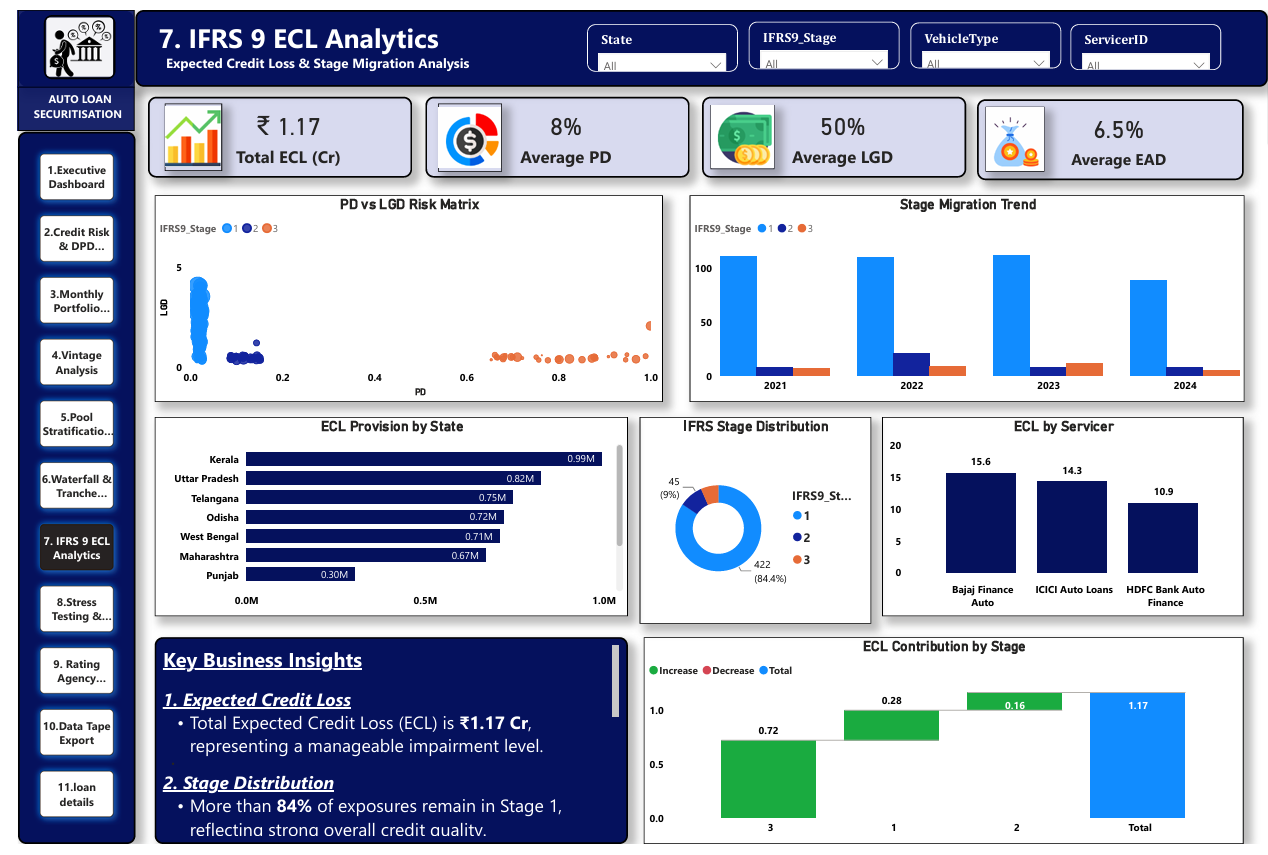

The page's visual inventory and layout, read from the dashboard file:
{"tool":"powerbi","page":{"name":"7. IFRS 9 ECL Analytics","canvas":[1500,1000],"ordinal":6},"visuals":[{"type":"shape","box":[0,0,139.9,92.9],"z":0},{"type":"textbox","box":[140.8,0,1358.9,92.2],"z":1000},{"type":"image","box":[31.4,6,85.7,77.2],"z":2000},{"type":"textbox","box":[0,91.7,139.9,53.1],"z":3000},{"type":"slicer","fields":{"Values":["Loan Master.State"]},"box":[682.8,16.9,181,56.7],"z":4000},{"type":"slicer","fields":{"Values":["Loan Master.IFRS9_Stage"]},"box":[877.1,14.5,181,56.7],"z":5000},{"type":"slicer","fields":{"Values":["Loan Master.VehicleType"]},"box":[1070.7,15.1,181,55.3],"z":6000},{"type":"card","fields":{"Values":["Loan Master.Total ECL (Cr)"]},"box":[155.8,103.9,316.7,97.2],"z":7000},{"type":"card","fields":{"Values":["Loan Master.Average PD"]},"box":[489.3,103.9,316.7,97.2],"z":8000},{"type":"card","fields":{"Values":["Loan Master.Average LGD"]},"box":[821,103.9,316.7,97.2],"z":9000},{"type":"card","fields":{"Values":["Loan Master.Average EAD (Cr)"]},"box":[1151,107.2,320,97.2],"z":10000},{"type":"pageNavigator","box":[0,145.8,140.8,854.6],"z":11000},{"type":"scatterChart","title":"PD vs LGD Risk Matrix","fields":{"X":["Loan Master.PD_Estimate"],"Y":["Sum(Loan Master.LGD_Estimate)"],"Series":["Loan Master.IFRS9_Stage"],"Size":["Sum(Loan Master.EAD)"]},"box":[164,222,610,248],"z":12000},{"type":"donutChart","title":"IFRS Stage Distribution","fields":{"Category":["Loan Master.IFRS9_Stage"],"Y":["CountNonNull(Loan Master.LoanID)"]},"box":[745.6,487.6,278.2,248],"z":13000},{"type":"clusteredBarChart","title":"ECL Provision by State","fields":{"Category":["Loan Master.State"],"Y":["Sum(Loan Master.ECL_Provision)"]},"box":[164.2,487.6,568,239.6],"z":14000},{"type":"waterfallChart","title":"ECL Contribution by Stage","fields":{"Category":["Loan Master.IFRS9_Stage"],"Y":["Loan Master.Total ECL (Cr)"]},"box":[750.7,752.3,720.5,248],"z":15000},{"type":"columnChart","title":"ECL by Servicer","fields":{"Category":["Loan Master.ServicerName"],"Y":["Sum(Loan Master.PD_Estimate)"]},"box":[1037.2,487.6,434,239.6],"z":16000},{"type":"slicer","fields":{"Values":["Loan Master.ServicerID"]},"box":[1263.4,16.8,181,55.3],"z":17000},{"type":"image","box":[175.9,112.3,68.7,80.4],"z":18000},{"type":"image","box":[504.4,112.3,77.1,82.1],"z":19000},{"type":"image","box":[831.1,113.9,77.1,77.1],"z":20000},{"type":"image","box":[1161.2,115.6,70.4,78.8],"z":21000},{"type":"clusteredColumnChart","title":"Stage Migration Trend","fields":{"Y":["CountNonNull(Loan Master.LoanID)"],"Series":["Loan Master.IFRS9_Stage"],"Category":["Calendar.Year"]},"box":[806,222,666,248],"z":22000},{"type":"textbox","box":[164.2,752.3,568,248],"z":23000}]}

Visuals, with their boxes on the page's 1500x1000 design canvas (x1, y1, x2, y2). These are canvas units, not pixel positions in the 1268x855 screenshot, which may show the page scaled, cropped or inside an application window:
shape: select_region(0, 0, 140, 93)
textbox: select_region(141, 0, 1500, 92)
image: select_region(31, 6, 117, 83)
textbox: select_region(0, 92, 140, 145)
slicer - Loan Master.State: select_region(683, 17, 864, 74)
slicer - Loan Master.IFRS9_Stage: select_region(877, 14, 1058, 71)
slicer - Loan Master.VehicleType: select_region(1071, 15, 1252, 70)
card - Loan Master.Total ECL (Cr): select_region(156, 104, 472, 201)
card - Loan Master.Average PD: select_region(489, 104, 806, 201)
card - Loan Master.Average LGD: select_region(821, 104, 1138, 201)
card - Loan Master.Average EAD (Cr): select_region(1151, 107, 1471, 204)
pageNavigator: select_region(0, 146, 141, 1000)
"PD vs LGD Risk Matrix" scatterChart: select_region(164, 222, 774, 470)
"IFRS Stage Distribution" donutChart: select_region(746, 488, 1024, 736)
"ECL Provision by State" clusteredBarChart: select_region(164, 488, 732, 727)
"ECL Contribution by Stage" waterfallChart: select_region(751, 752, 1471, 1000)
"ECL by Servicer" columnChart: select_region(1037, 488, 1471, 727)
slicer - Loan Master.ServicerID: select_region(1263, 17, 1444, 72)
image: select_region(176, 112, 245, 193)
image: select_region(504, 112, 582, 194)
image: select_region(831, 114, 908, 191)
image: select_region(1161, 116, 1232, 194)
"Stage Migration Trend" clusteredColumnChart: select_region(806, 222, 1472, 470)
textbox: select_region(164, 752, 732, 1000)
